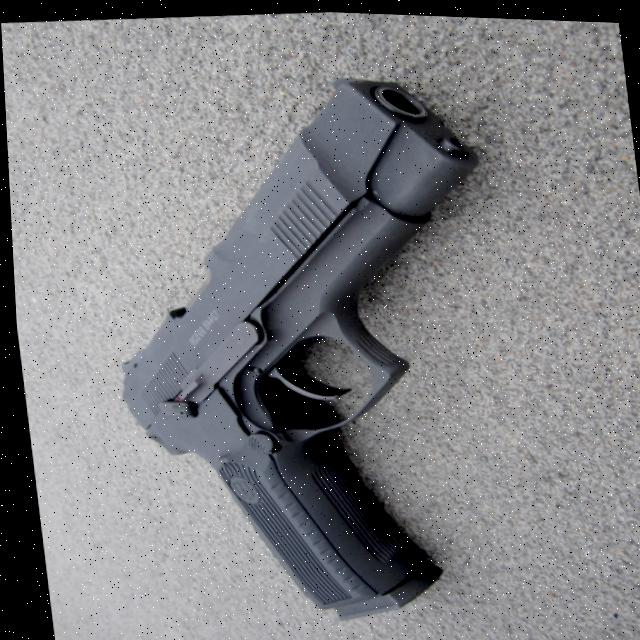pistol: (82, 52, 536, 638)
